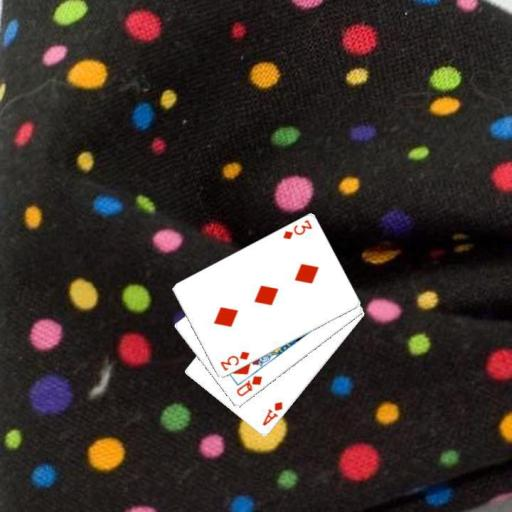3D: (217, 349, 251, 373), (280, 217, 314, 241)
AD: (259, 399, 284, 427)
QD: (233, 373, 264, 398)
